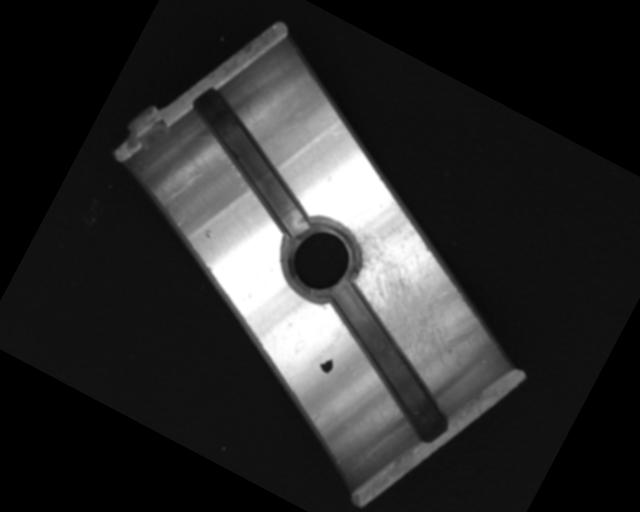blot: (315, 353, 337, 376)
bruise: (202, 226, 216, 240)
gap: (294, 278, 483, 445), (164, 84, 344, 237)
hole: (272, 208, 371, 309)
scratch: (302, 189, 512, 386)
